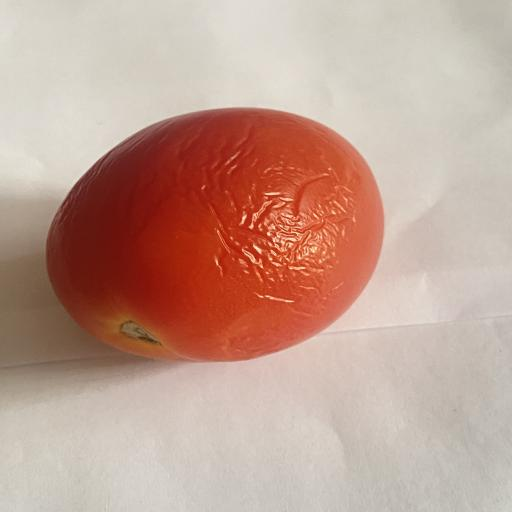spoiled: (47, 108, 383, 361)
